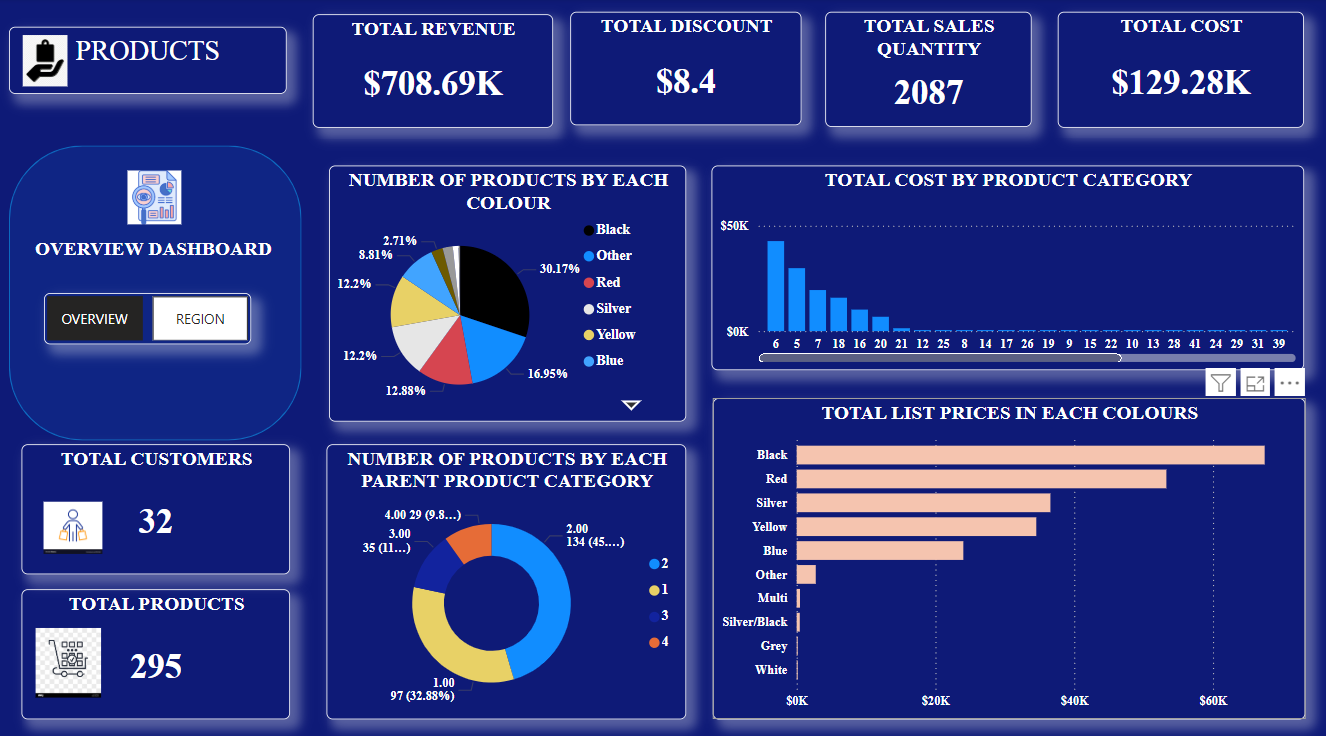

Layout of this report page (visuals, bound fields, positions):
{"tool":"powerbi","page":{"name":"OVERVIEW","canvas":[1280,720],"ordinal":0},"visuals":[{"type":"shape","box":[9.7,142.4,282.3,284.7],"z":0},{"type":"card","title":"TOTAL REVENUE","fields":{"Values":["SalesLT SalesOrderDetail.TOTAL_REVENUE"]},"box":[302.8,15.7,231.6,109.8],"z":1000},{"type":"card","title":"TOTAL DISCOUNT","fields":{"Values":["SalesLT SalesOrderDetail.TOTAL_DICOUNT"]},"box":[551.3,13.3,223.2,109.8],"z":2000},{"type":"card","title":"TOTAL SALES QUANTITY","fields":{"Values":["SalesLT SalesOrderDetail.OTAL_QUANTITY"]},"box":[797.5,13.3,199.1,111],"z":3000},{"type":"textbox","box":[9.7,27.7,267.8,65.1],"z":4000},{"type":"card","title":"TOTAL COST","fields":{"Values":["SalesLT Product.TOTALCOST"]},"box":[1021.9,13.3,237.7,112.2],"z":5000},{"type":"pieChart","title":"NUMBER OF PRODUCTS BY EACH COLOUR","fields":{"Y":["CountNonNull(SalesLT Product.ProductID)"],"Category":["SalesLT Product.Color"]},"box":[318.5,161.7,345,247.3],"z":6000},{"type":"card","title":"TOTAL CUSTOMERS","fields":{"Values":["SalesLT SalesOrderHeader.Numberofcustomers"]},"box":[21.7,430.7,259.4,125.5],"z":7000},{"type":"clusteredColumnChart","title":"TOTAL COST BY PRODUCT CATEGORY","fields":{"Y":["SalesLT Product.TOTALCOST"],"Category":["SalesLT Product.ProductCategoryID"]},"box":[687.7,161.7,571.9,197.9],"z":8000},{"type":"clusteredBarChart","title":"TOTAL LIST PRICES IN EACH COLOURS","fields":{"Y":["Sum(SalesLT Product.ListPrice)"],"Category":["SalesLT Product.Color"]},"box":[688.9,386.1,571.9,310.1],"z":9000},{"type":"donutChart","title":"NUMBER OF PRODUCTS BY EACH PARENT PRODUCT CATEGORY","fields":{"Y":["CountNonNull(SalesLT Product.ProductID)"],"Category":["SalesLT ProductCategory.ParentProductCategoryID"]},"box":[316.1,430.7,347.5,265.4],"z":10000},{"type":"image","box":[18.1,27.7,53.1,65.1],"z":11000},{"type":"card","title":"TOTAL PRODUCTS","fields":{"Values":["SalesLT Product.TOTALPRODUCTS"]},"box":[21.7,570.6,259.4,125.5],"z":12000},{"type":"image","box":[35,481.4,72.4,60.3],"z":13000},{"type":"image","box":[21.7,603.2,90.5,77.2],"z":14000},{"type":"textbox","box":[16.9,226.8,264.2,42.2],"z":15000},{"type":"image","box":[0,161.7,300.4,61.5],"z":16000},{"type":"pageNavigator","box":[43.4,284.7,200.3,49.5],"z":17000}]}

Visuals, with their boxes in screenshot pixels (x1, y1, x2, y2), scaled from the page's 1280x720 canvas onto the 1326x736 screenshot:
shape: detection(10, 146, 302, 437)
"TOTAL REVENUE" card: detection(314, 16, 554, 128)
"TOTAL DISCOUNT" card: detection(571, 14, 802, 126)
"TOTAL SALES QUANTITY" card: detection(826, 14, 1032, 127)
textbox: detection(10, 28, 287, 95)
"TOTAL COST" card: detection(1059, 14, 1305, 128)
"NUMBER OF PRODUCTS BY EACH COLOUR" pieChart: detection(330, 165, 687, 418)
"TOTAL CUSTOMERS" card: detection(22, 440, 291, 569)
"TOTAL COST BY PRODUCT CATEGORY" clusteredColumnChart: detection(712, 165, 1305, 368)
"TOTAL LIST PRICES IN EACH COLOURS" clusteredBarChart: detection(714, 395, 1306, 712)
"NUMBER OF PRODUCTS BY EACH PARENT PRODUCT CATEGORY" donutChart: detection(327, 440, 687, 712)
image: detection(19, 28, 74, 95)
"TOTAL PRODUCTS" card: detection(22, 583, 291, 712)
image: detection(36, 492, 111, 554)
image: detection(22, 617, 116, 696)
textbox: detection(18, 232, 291, 275)
image: detection(0, 165, 311, 228)
pageNavigator: detection(45, 291, 252, 342)
